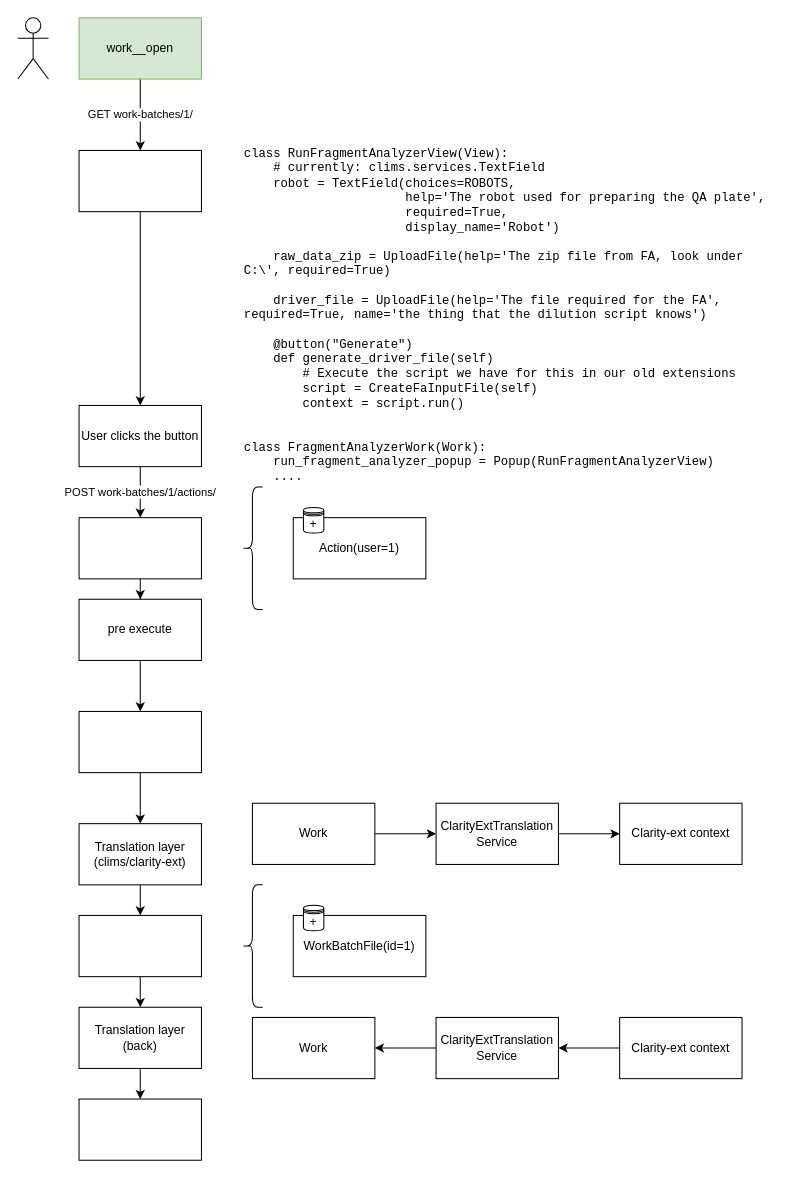
This 796x1178 diagram has some shape labels left out. The shapes that lost their labels are listed below. From the top down, each one's centre as x and y in pixels, then its label:
(x=32, y=48): RE
(x=139, y=180): Show button "Run fragment analyzer"
(x=139, y=548): ActionService
(x=139, y=741): create_sample_list
(x=139, y=945): Execute clarity-ext which "thinks" it's still talking to Clarity
(x=139, y=1129): post execute (commit, batch process if applicable and error handling)
